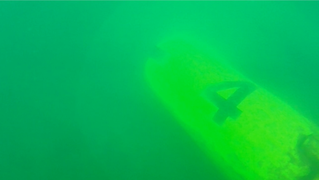4: (201, 79, 259, 126)
pipe: (144, 33, 319, 180)
